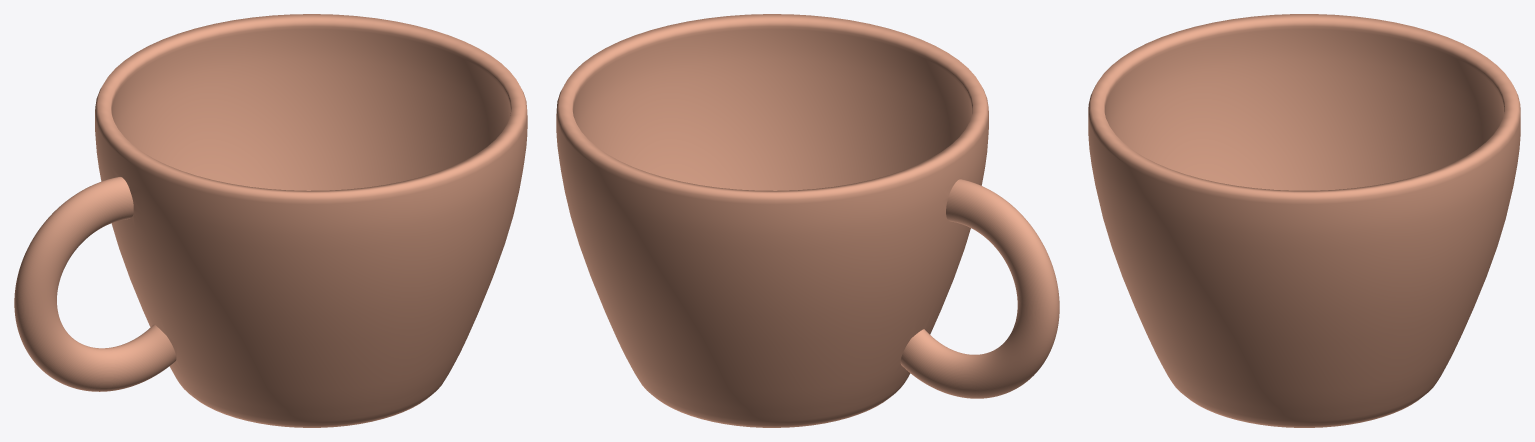
Rendered from Cup.glb.
3 renders of one model, left to right at view 1: azimuth 30°, elevation 25°; view 2: azimuth 150°, elevation 25°; view 3: azimuth 270°, elevation 25°, orthographic.
Parts seen in each view (by area): view 1: Cup; view 2: Cup; view 3: Cup.
Part boxes in pixels (x1,y1,x2,y2): Cup: [14, 14, 527, 427]; Cup: [556, 14, 1059, 427]; Cup: [1088, 14, 1520, 427].
Size of the model in its own units: 0.494 by 0.2675 by 0.3875.
